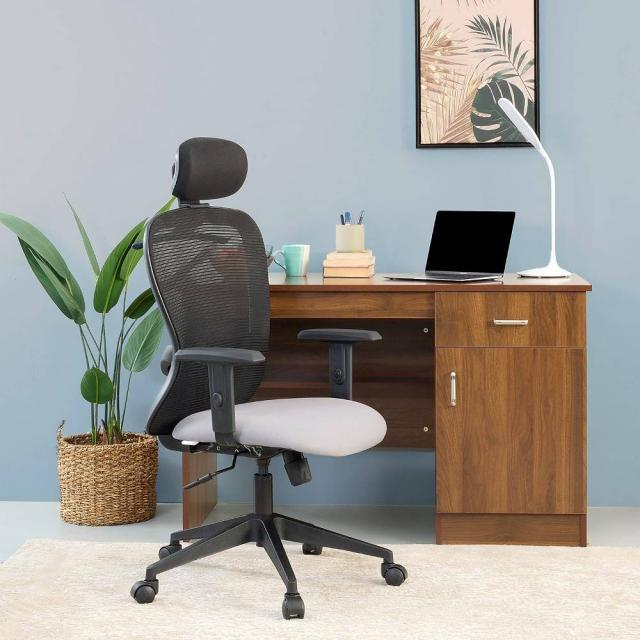chair: (70, 123, 413, 636)
